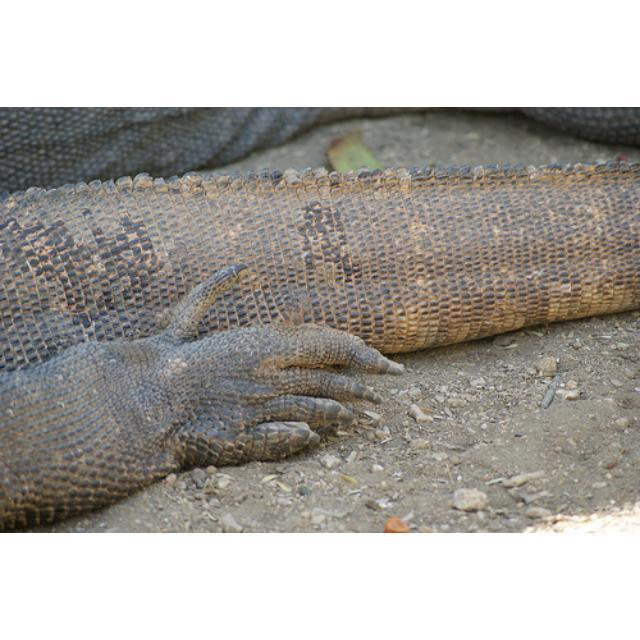KomodoDragon: (1, 160, 637, 529)
